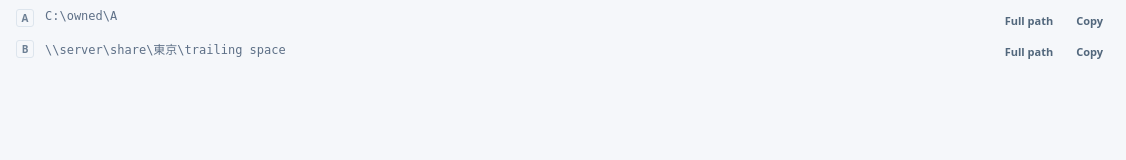
Test case: copies the selected side's complete UNC path without normalization
Click the button with aria-label "Copy folder B path" at (1090, 52), box [1070, 40, 1109, 64]
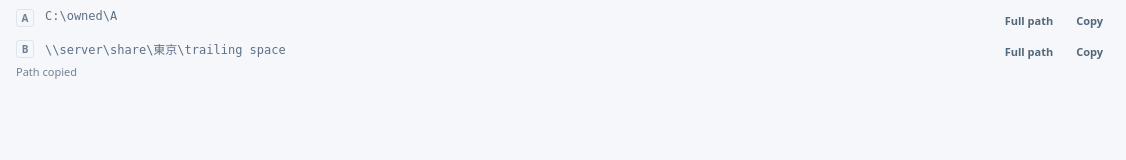
Expected: the message reads "Path copied", [16, 64, 77, 79]
